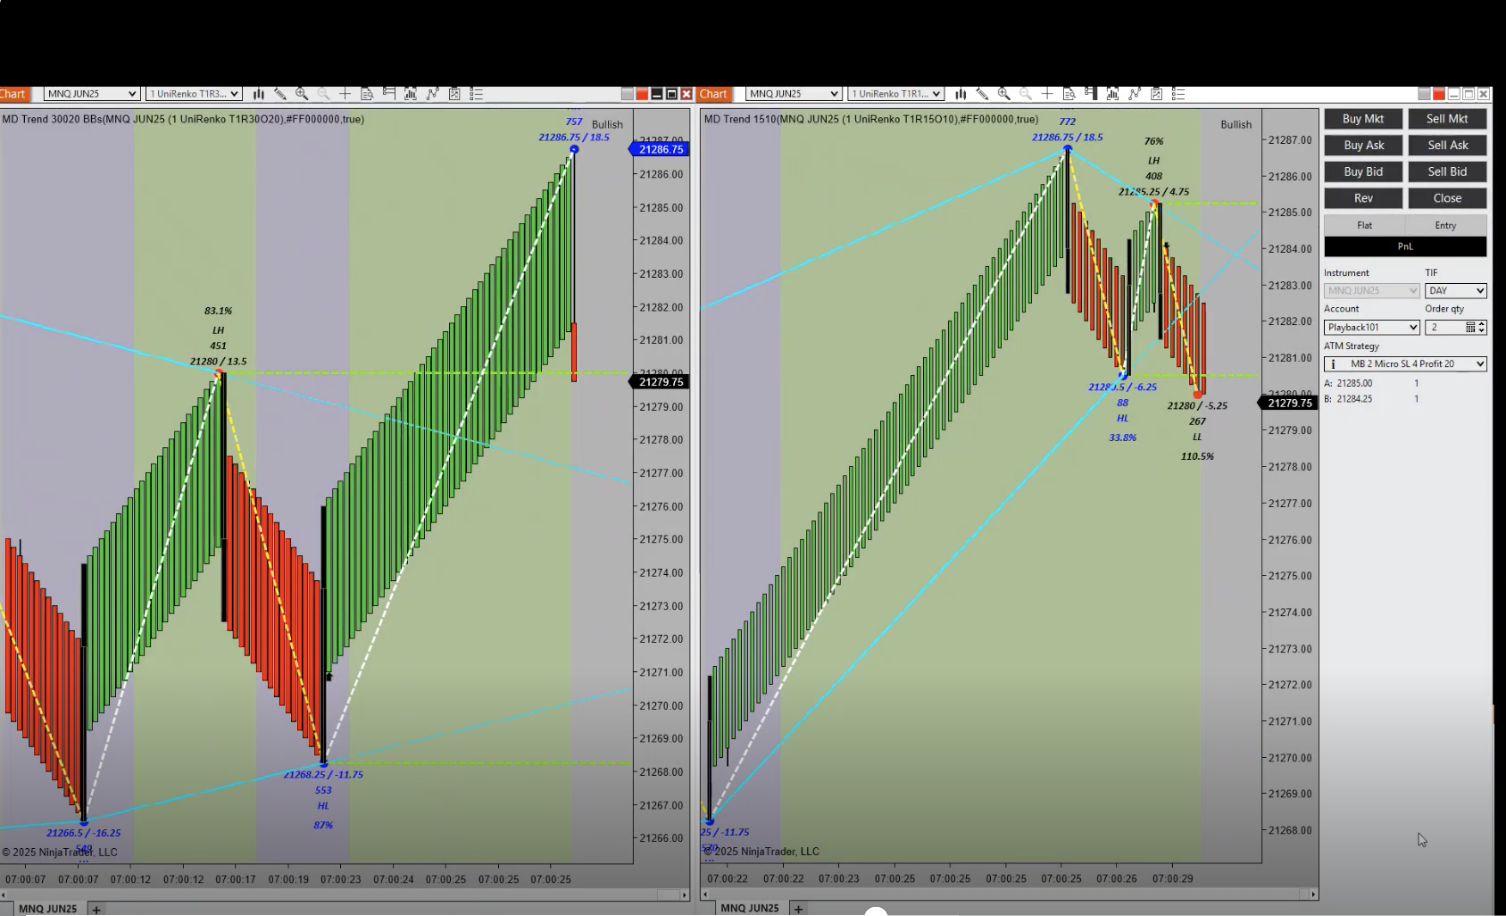candle: (76, 566, 90, 815), (318, 507, 329, 767), (221, 374, 227, 631), (706, 679, 715, 819), (1126, 242, 1135, 380), (1157, 207, 1165, 346), (1066, 151, 1069, 301)
